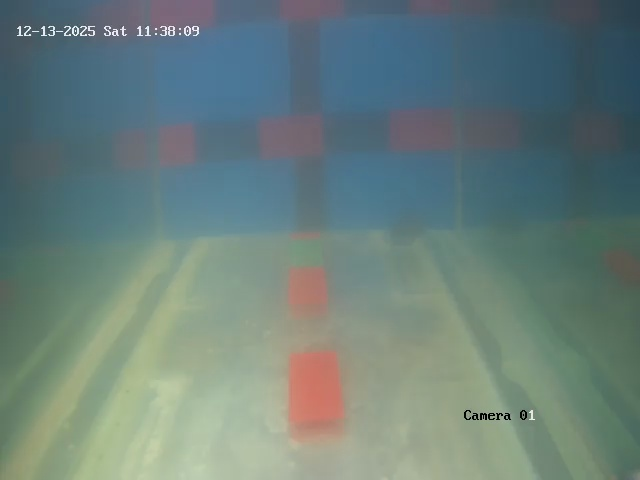fish: (381, 214, 427, 248)
